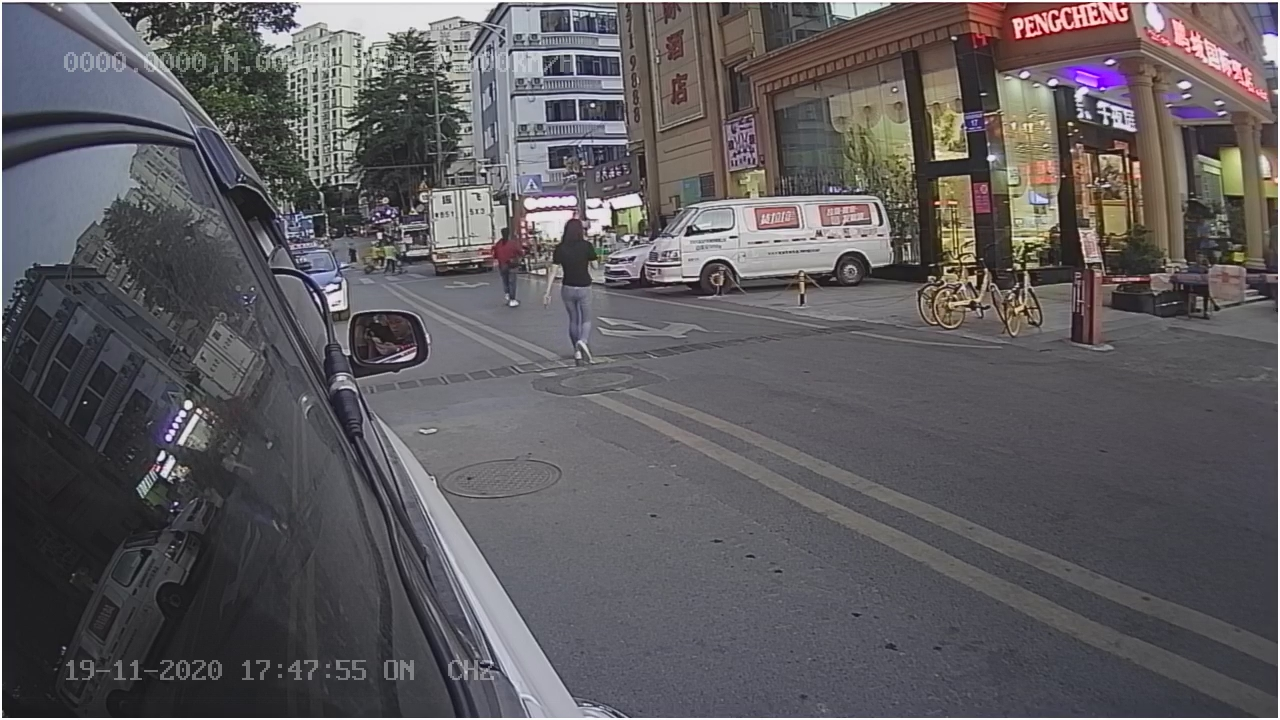person: (542, 215, 602, 372)
